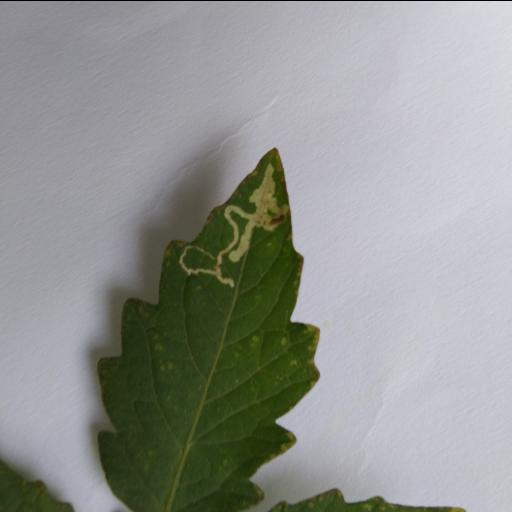disease_tomato: (95, 143, 323, 512)
